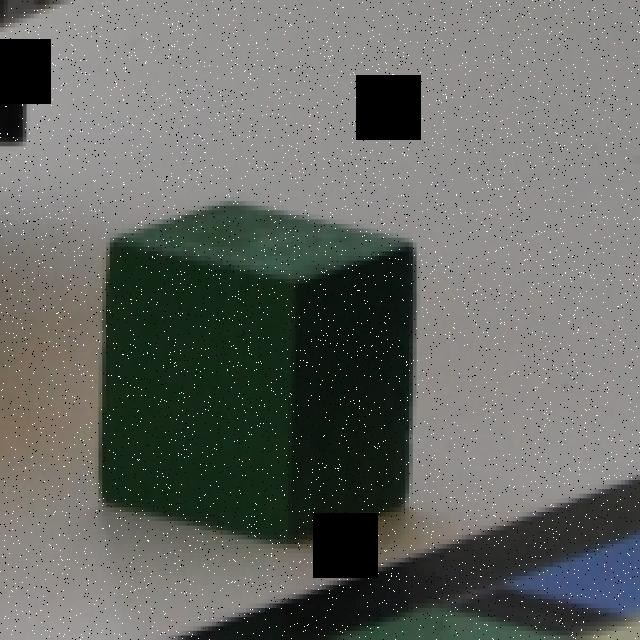green cube: (96, 199, 412, 553)
